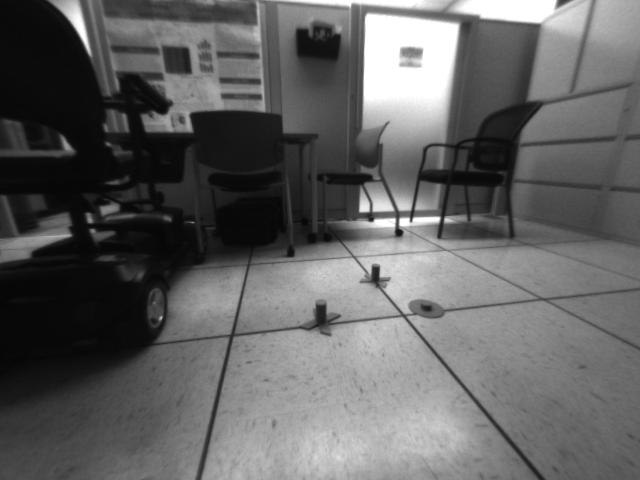X: (300, 300, 343, 334), (360, 261, 391, 289)
